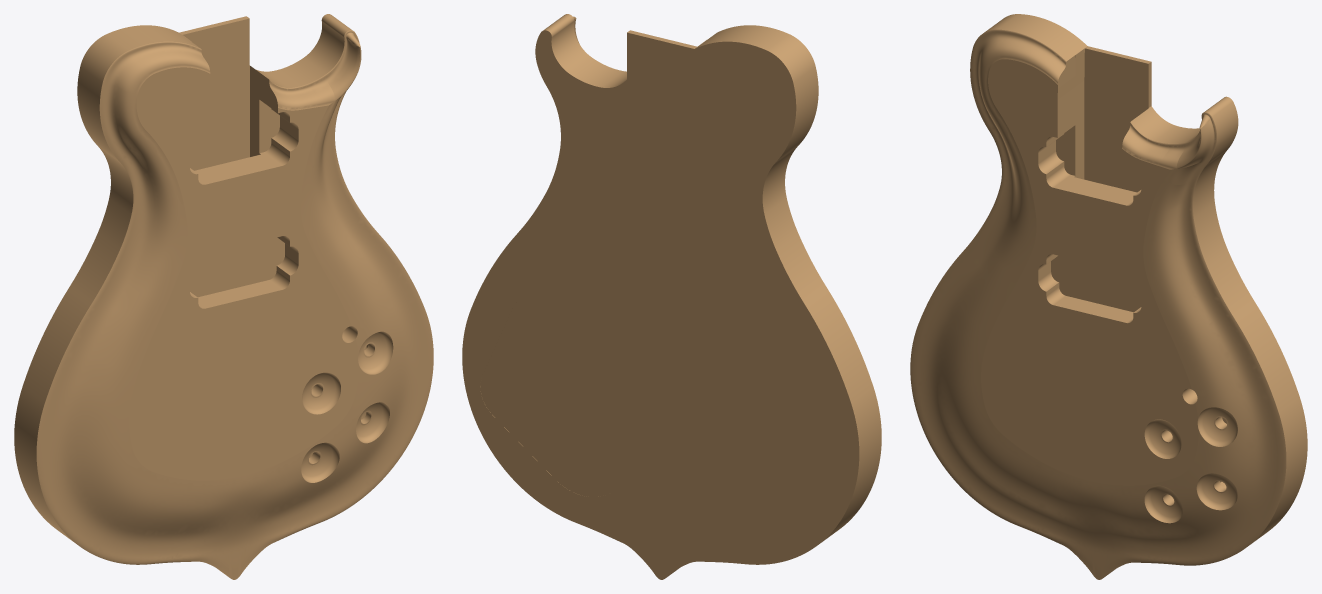
The model's file is oryx_standard.glb.
3 renders of one model, left to right at view 1: azimuth 30°, elevation 25°; view 2: azimuth 150°, elevation 25°; view 3: azimuth 330°, elevation 25°, orthographic. The views are drawn at different scales.
Visible parts, largest first — view 1: oryx_standard; view 2: oryx_standard; view 3: oryx_standard.
Part boxes in pixels (<box>): oryx_standard: <box>14,14,433,579</box>; oryx_standard: <box>462,14,881,579</box>; oryx_standard: <box>910,14,1307,579</box>.
Size of the model in its own units: 0.3251 by 0.4357 by 0.0445.
